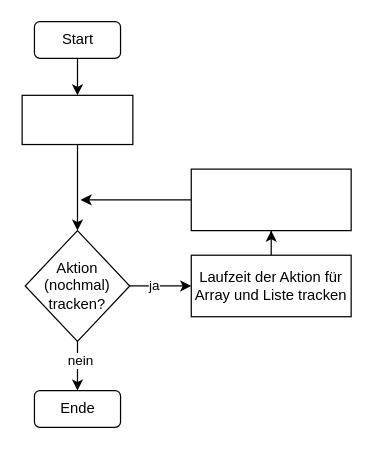
This 373x449 diagram has some shape labels left out. The shapes that lost their labels are listed below. From the top down, each one's centre as x and y in pixels, then its label:
[77,119]: Initialisierung
[270,199]: Getrackte Laufzeiten und belegten Speicher in Datei speichern
